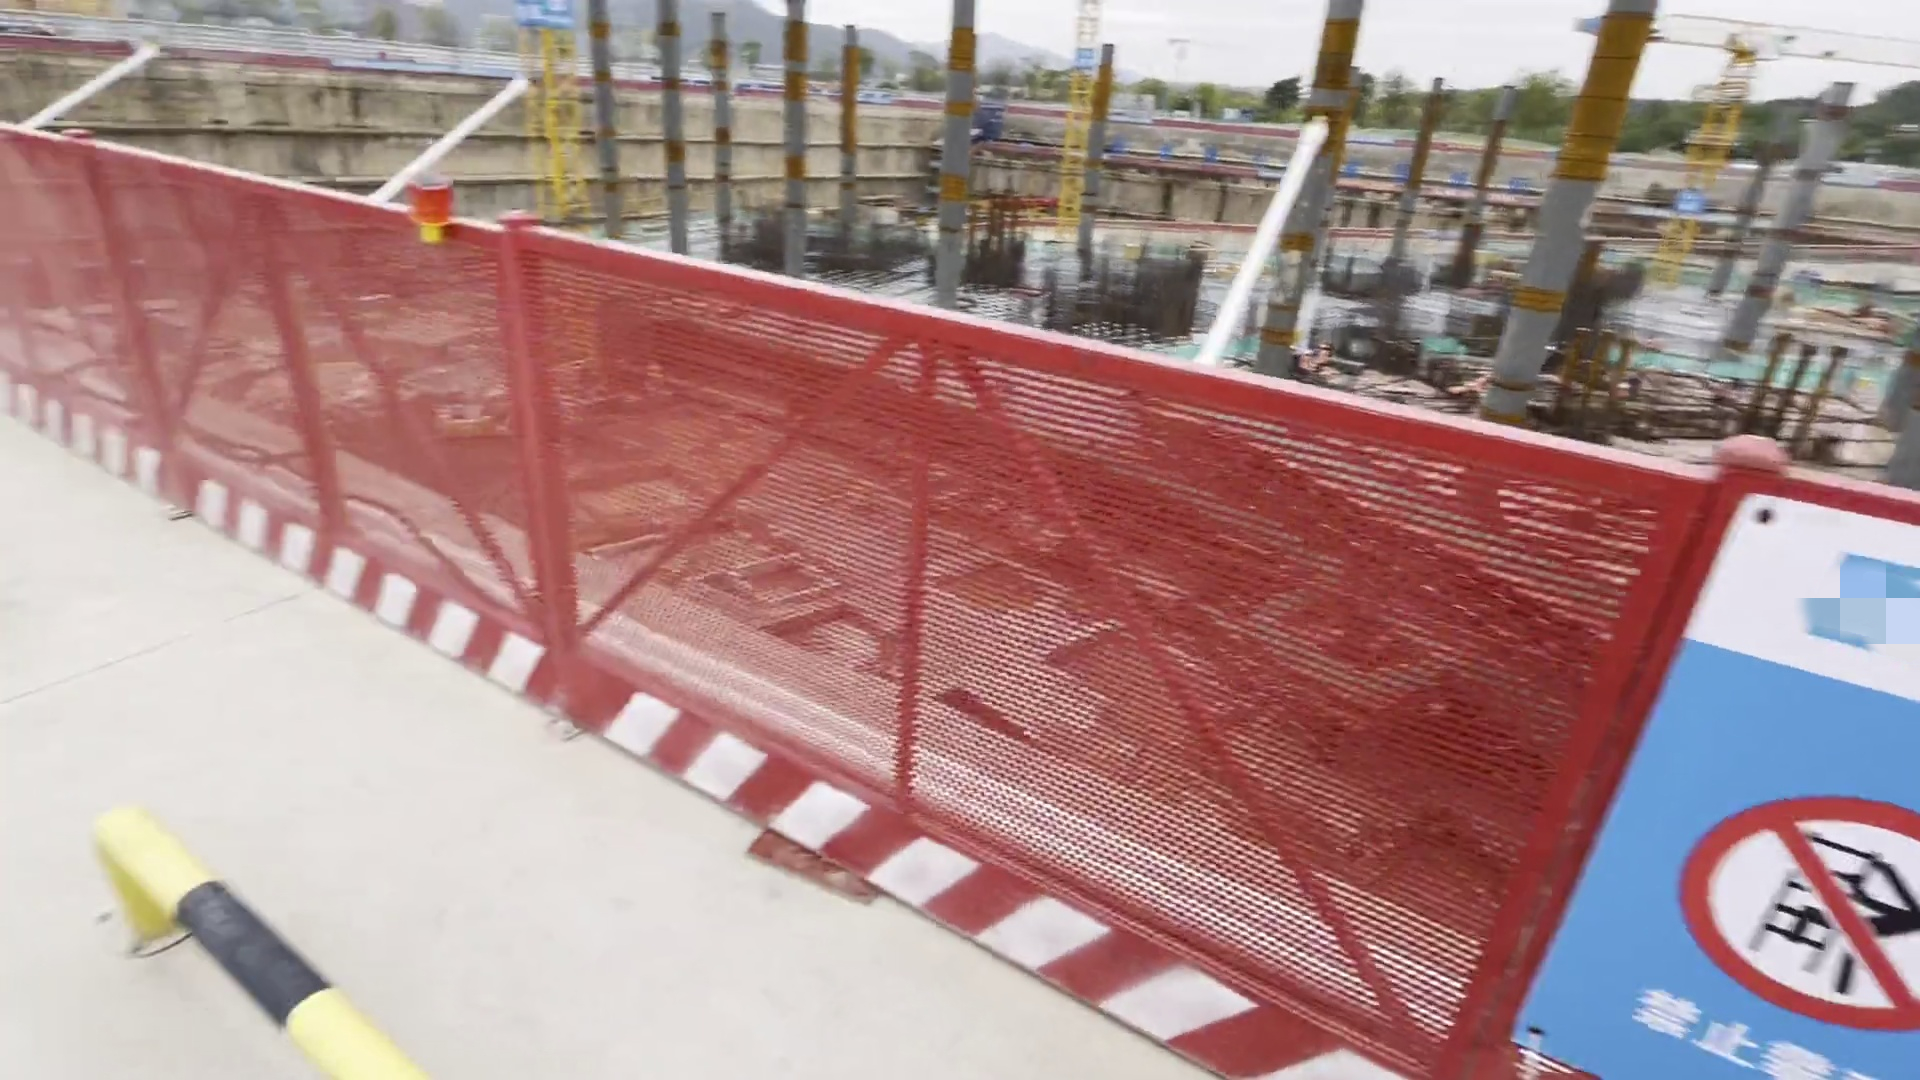fence: (3, 137, 1557, 1080)
slogan: (1582, 674, 1913, 1080)
